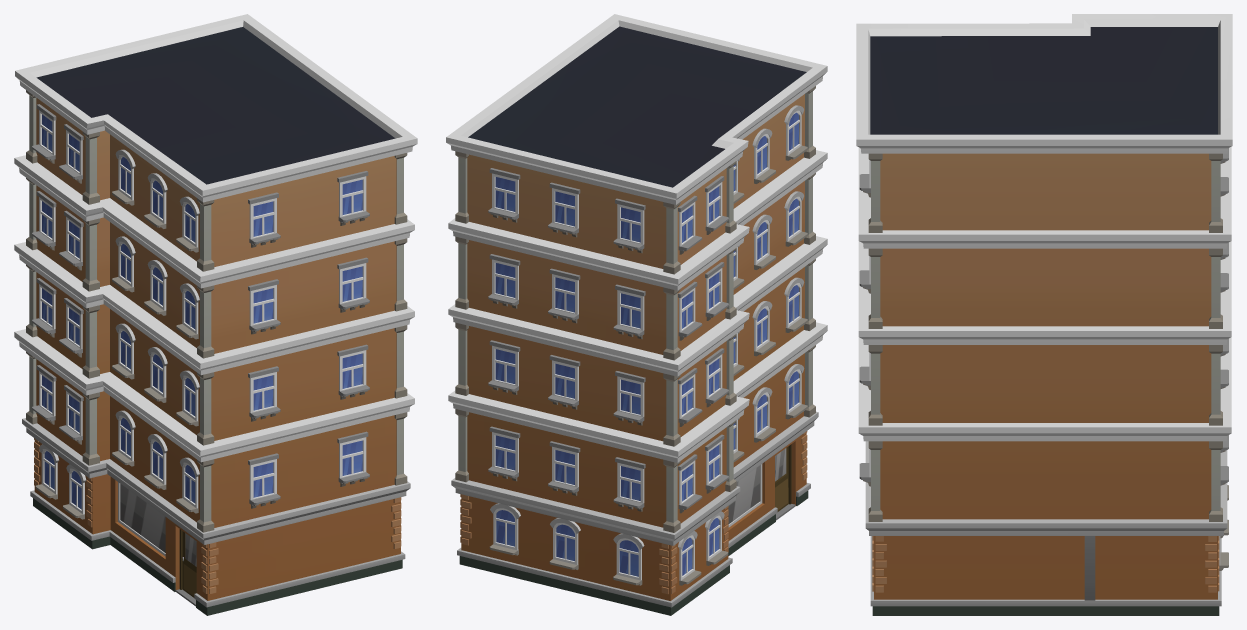
File: Building_1_5_L.fbx
The picture shows the model from 3 angles, left to right: view 1: azimuth 30°, elevation 25°; view 2: azimuth 150°, elevation 25°; view 3: azimuth 270°, elevation 25°; orthographic projection. The views are drawn at different scales.
Visible parts, largest first — view 1: Building_1_5_L; view 2: Building_1_5_L; view 3: Building_1_5_L.
Boxes of the visible parts, box(x1,y1,x2,y2) form: Building_1_5_L: box(14, 14, 417, 615); Building_1_5_L: box(446, 14, 827, 615); Building_1_5_L: box(856, 14, 1232, 615).
Size of the model in its own units: 847 by 1501 by 1067.
